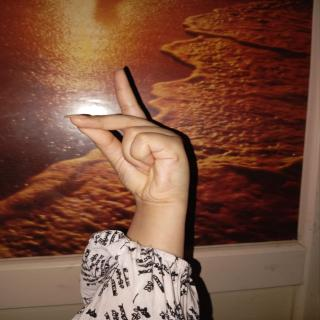TAA: (61, 62, 199, 214)
